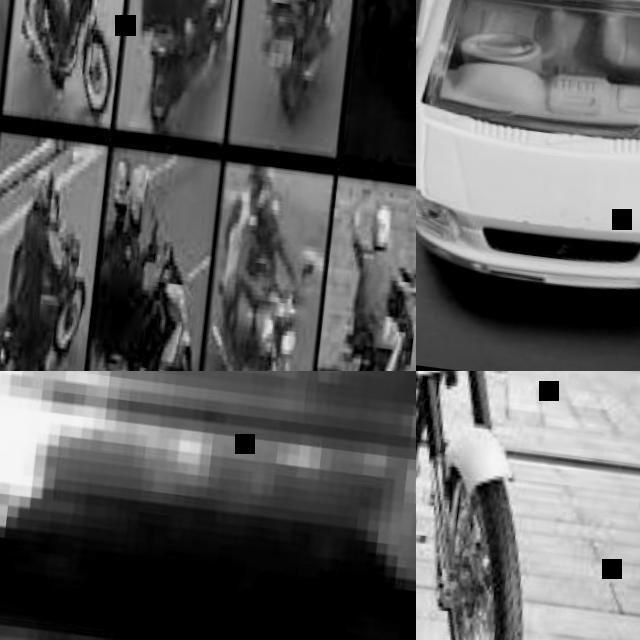car: (417, 0, 637, 320), (8, 143, 185, 367)
